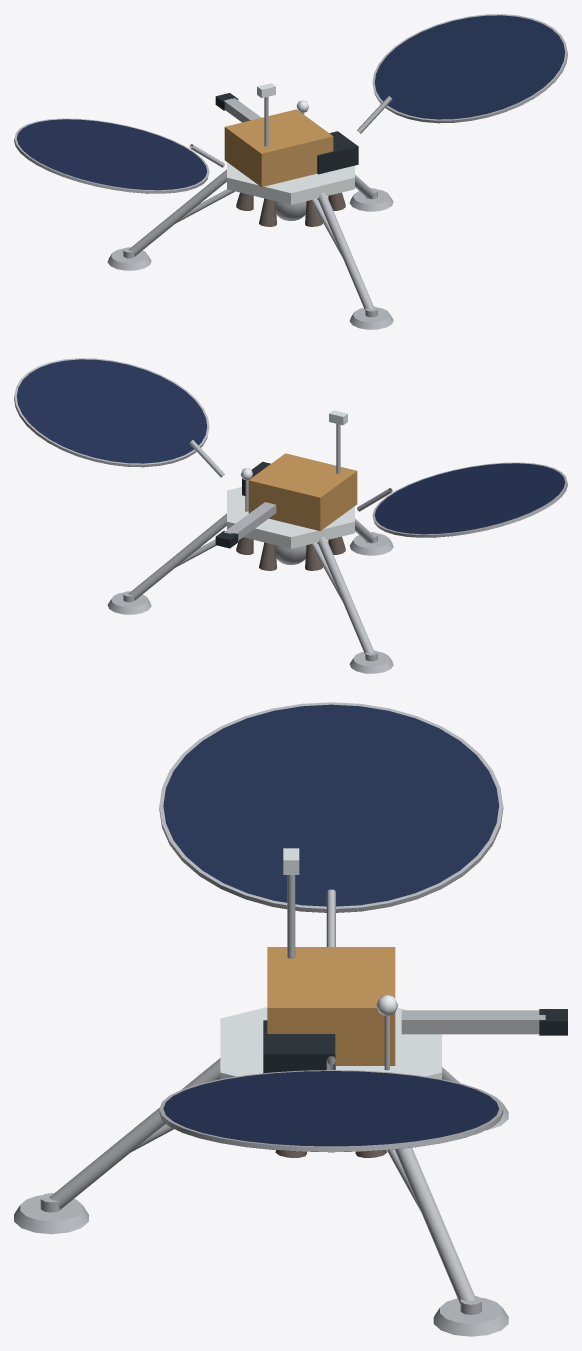
Rendered from lander_legged.glb.
The picture shows the model from 3 angles, top to bottom: view 1: azimuth 30°, elevation 25°; view 2: azimuth 150°, elevation 25°; view 3: azimuth 270°, elevation 25°; orthographic projection. The views are drawn at different scales.
Visible parts, largest first — view 1: lander_legged_mesh; view 2: lander_legged_mesh; view 3: lander_legged_mesh.
Boxes of the visible parts, x1,y1,x2,y2 form: lander_legged_mesh: (14, 14, 567, 329); lander_legged_mesh: (14, 358, 567, 673); lander_legged_mesh: (14, 702, 567, 1336).
Bounding box in the file's own units: 6.6 × 2.3 × 3.46.
